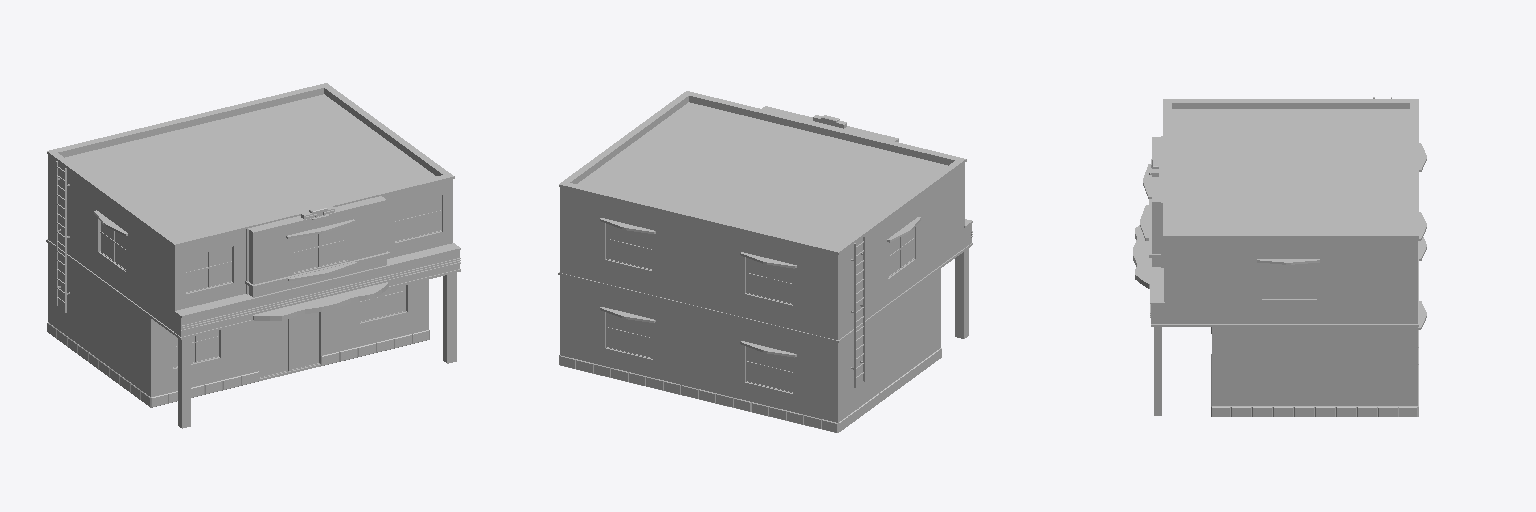
File: residential_building.obj
3 renders of one model, left to right at view 1: azimuth 30°, elevation 25°; view 2: azimuth 150°, elevation 25°; view 3: azimuth 270°, elevation 25°, orthographic.
Visible parts, largest first — view 1: building; view 2: building; view 3: building.
Part boxes in pixels (x1,y1,x2,y2): building: (46,83,460,428); building: (558,91,972,432); building: (1133,97,1426,416).
Bounding box in the file's own units: 10.17 × 6.15 × 8.82.